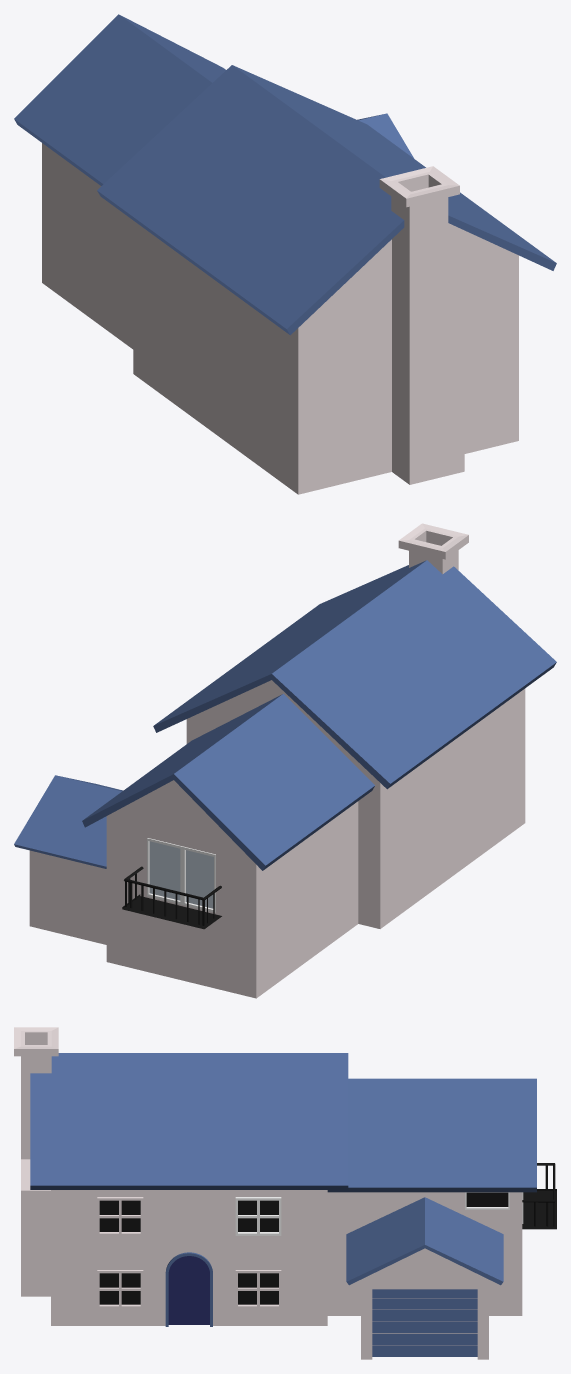
The model's file is SimosinTesting.fbx.
The picture shows the model from 3 angles, top to bottom: view 1: azimuth 30°, elevation 25°; view 2: azimuth 150°, elevation 25°; view 3: azimuth 270°, elevation 25°; orthographic projection. The views are drawn at different scales.
Visible parts, largest first — view 1: Plane.073; view 2: Plane.073; view 3: Plane.073.
Boxes of the visible parts, <box> form: Plane.073: <box>14,14,556,494</box>; Plane.073: <box>14,523,556,998</box>; Plane.073: <box>14,1027,556,1359</box>.
Size of the model in its own units: 335 by 278 by 560.
